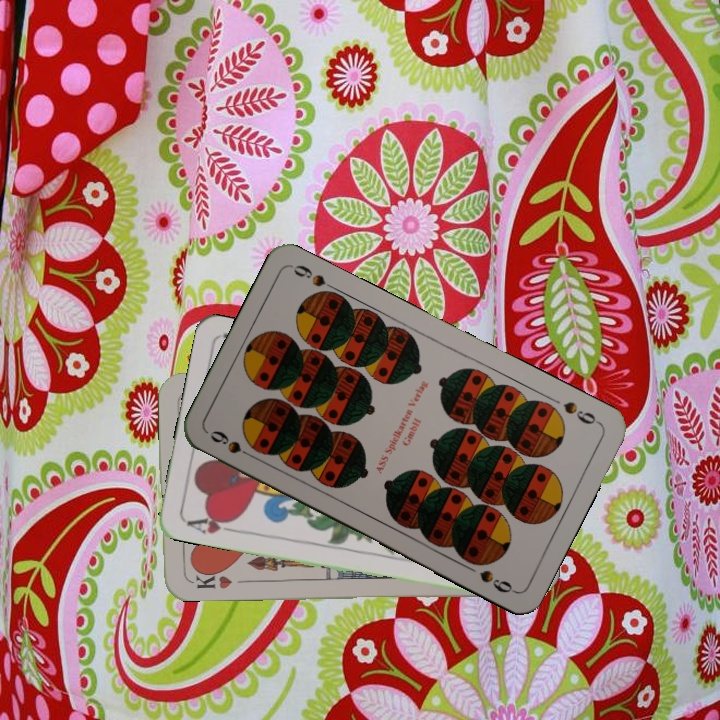HA: (182, 510, 241, 537)
HK: (184, 565, 234, 592)
S9: (206, 426, 260, 463), (559, 397, 603, 428)
